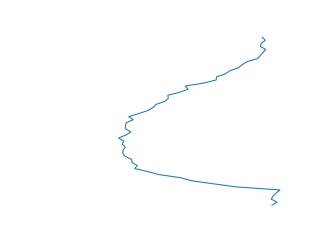underwaterDistributaryChannel: (112, 38, 284, 206)
